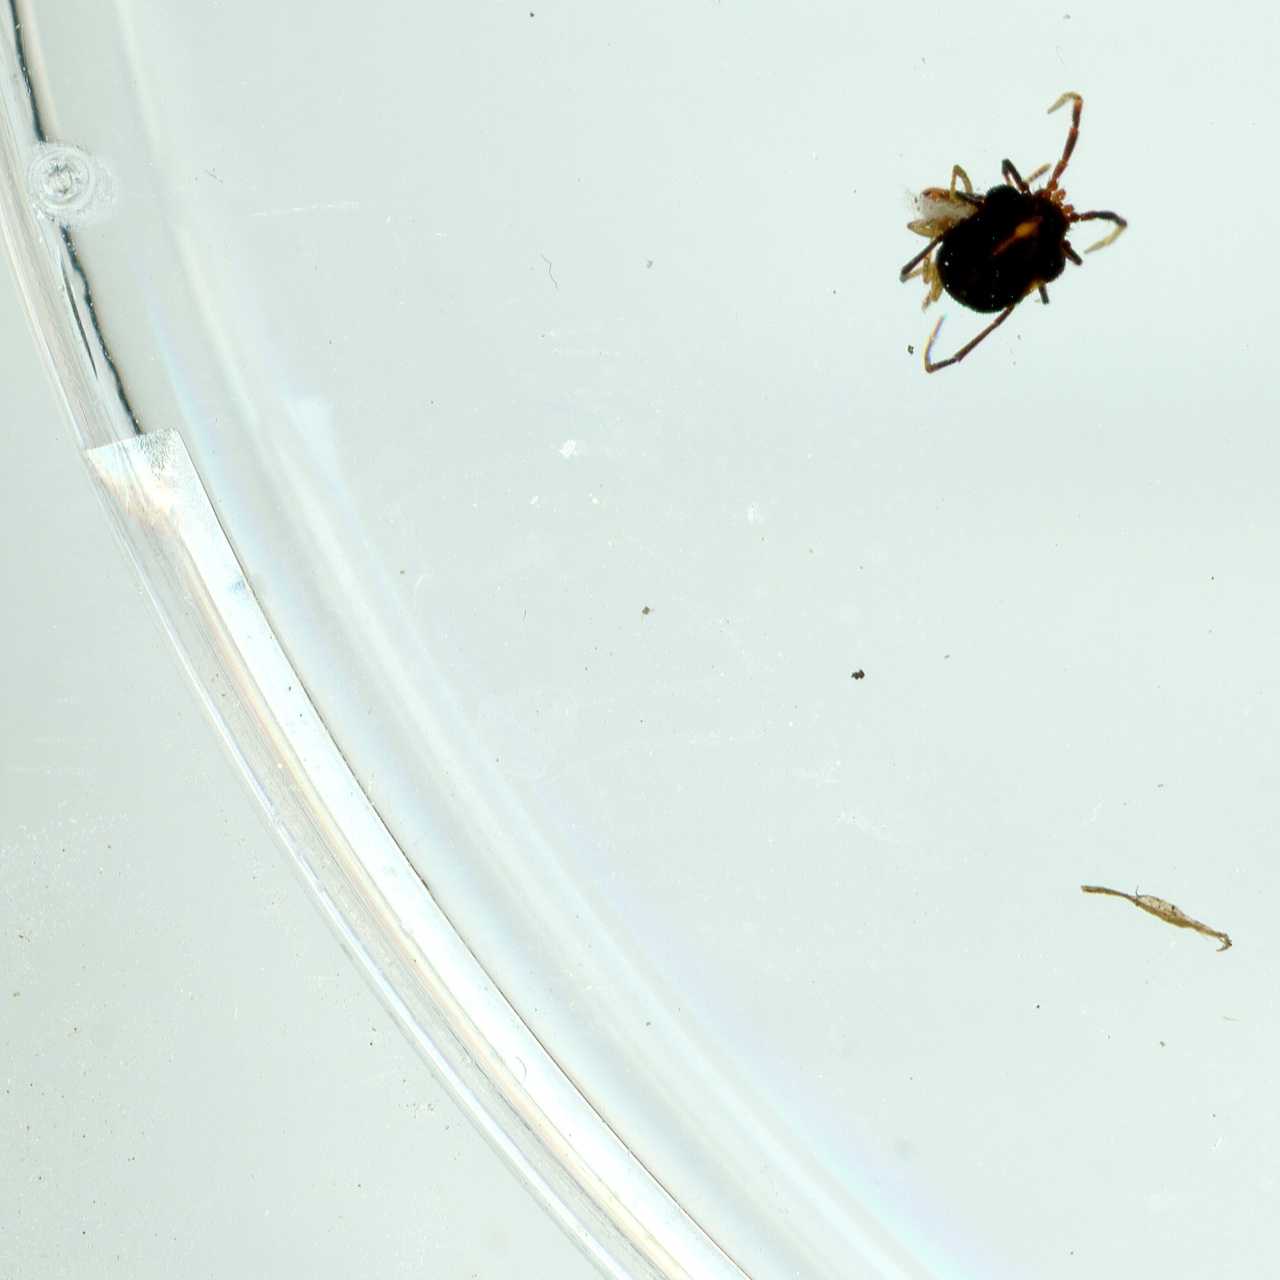arthropod: (893, 83, 1132, 381)
